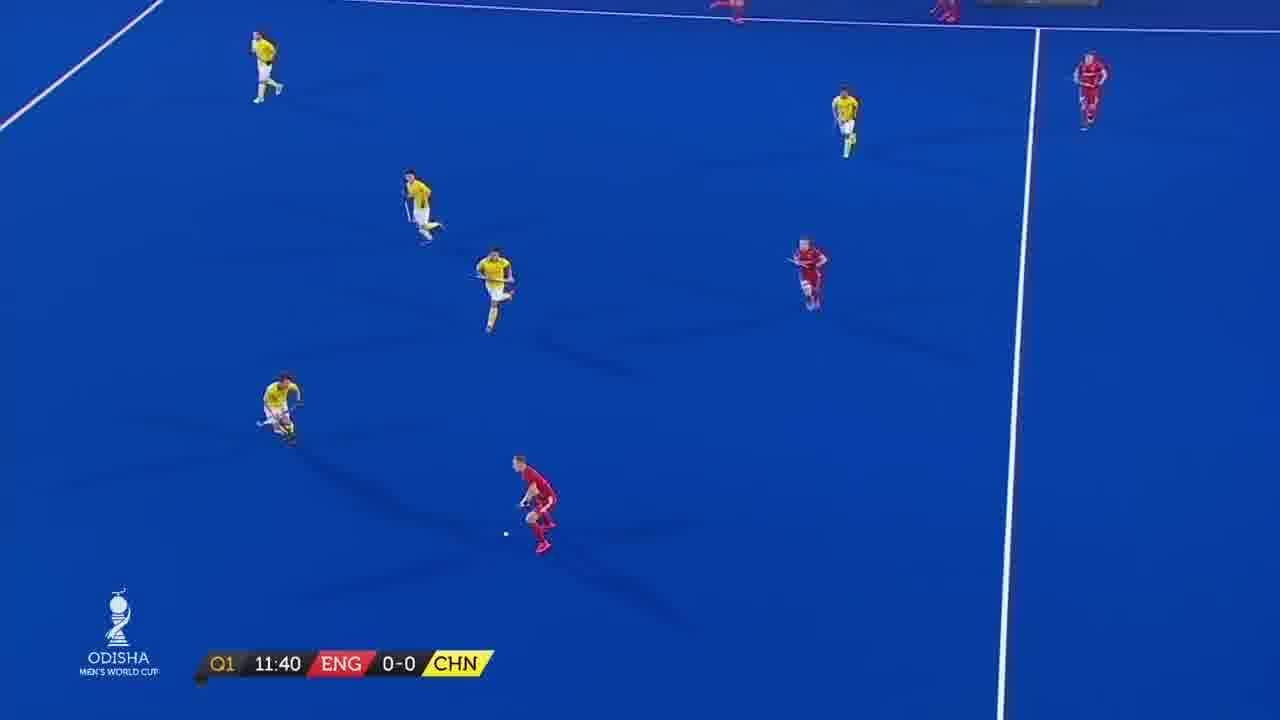ball: (504, 528, 510, 538)
